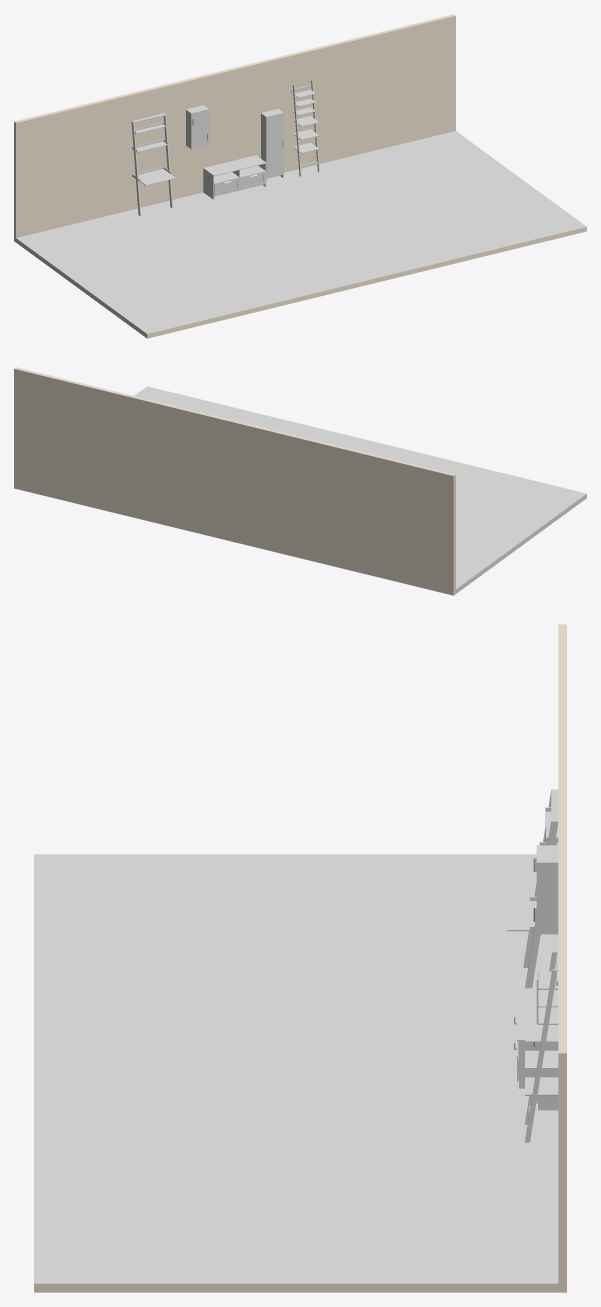
The model's file is 壁周辺.fbx.
3 views of the same model, one above another, from view 1: azimuth 30°, elevation 25°; view 2: azimuth 150°, elevation 25°; view 3: azimuth 270°, elevation 25° (orthographic). The views are drawn at different scales.
Visible parts, largest first — view 1: Plane, mesa-tv, escritorio-salon, stand-alto, stand-blanco, stand-cuadro.001, stand-cuadro; view 2: Plane; view 3: Plane, stand-blanco, escritorio-salon, mesa-tv, stand-cuadro.001, stand-alto, stand-cuadro.
Boxes of the visible parts, x1,y1,x2,y2 form: Plane: (14, 14, 586, 338); mesa-tv: (203, 155, 266, 199); escritorio-salon: (131, 113, 175, 216); stand-alto: (261, 109, 283, 181); stand-blanco: (291, 80, 319, 176); stand-cuadro.001: (186, 105, 208, 131); stand-cuadro: (186, 127, 208, 149); Plane: (14, 367, 586, 595); Plane: (34, 624, 566, 1292); stand-blanco: (525, 951, 558, 1142); escritorio-salon: (507, 789, 558, 988); mesa-tv: (514, 988, 536, 1088); stand-cuadro.001: (533, 845, 558, 898); stand-alto: (533, 962, 558, 1110); stand-cuadro: (533, 898, 558, 934).
Size of the model in its own units: 1000 by 260 by 525.
